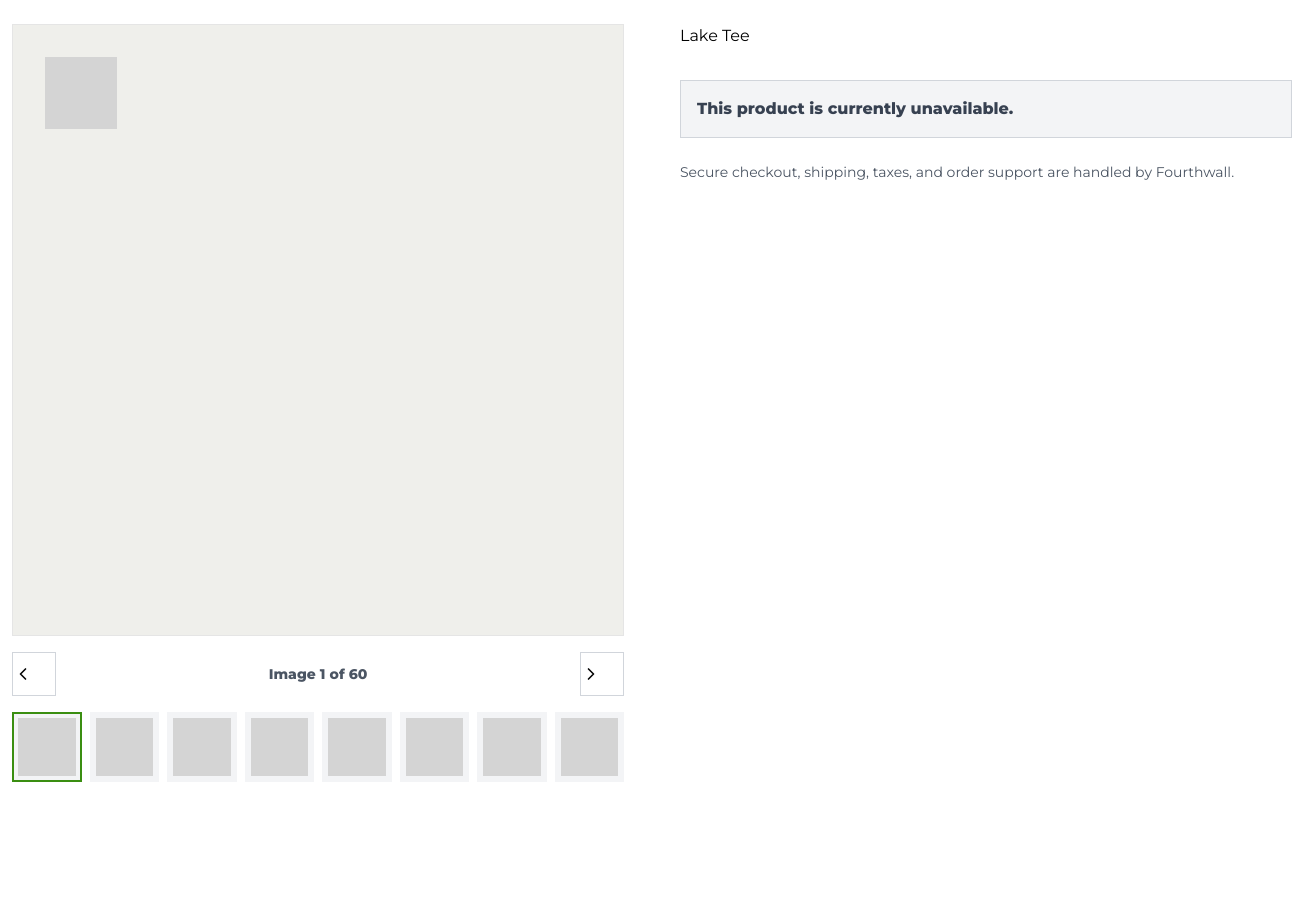
Scenario: Fourthwall product gallery and option selection › bounds thumbnail rendering for large catalogs while keeping every photo reachable
Click the button named "Previous product image" at (34, 674), box left=12, top=652, right=56, bottom=696
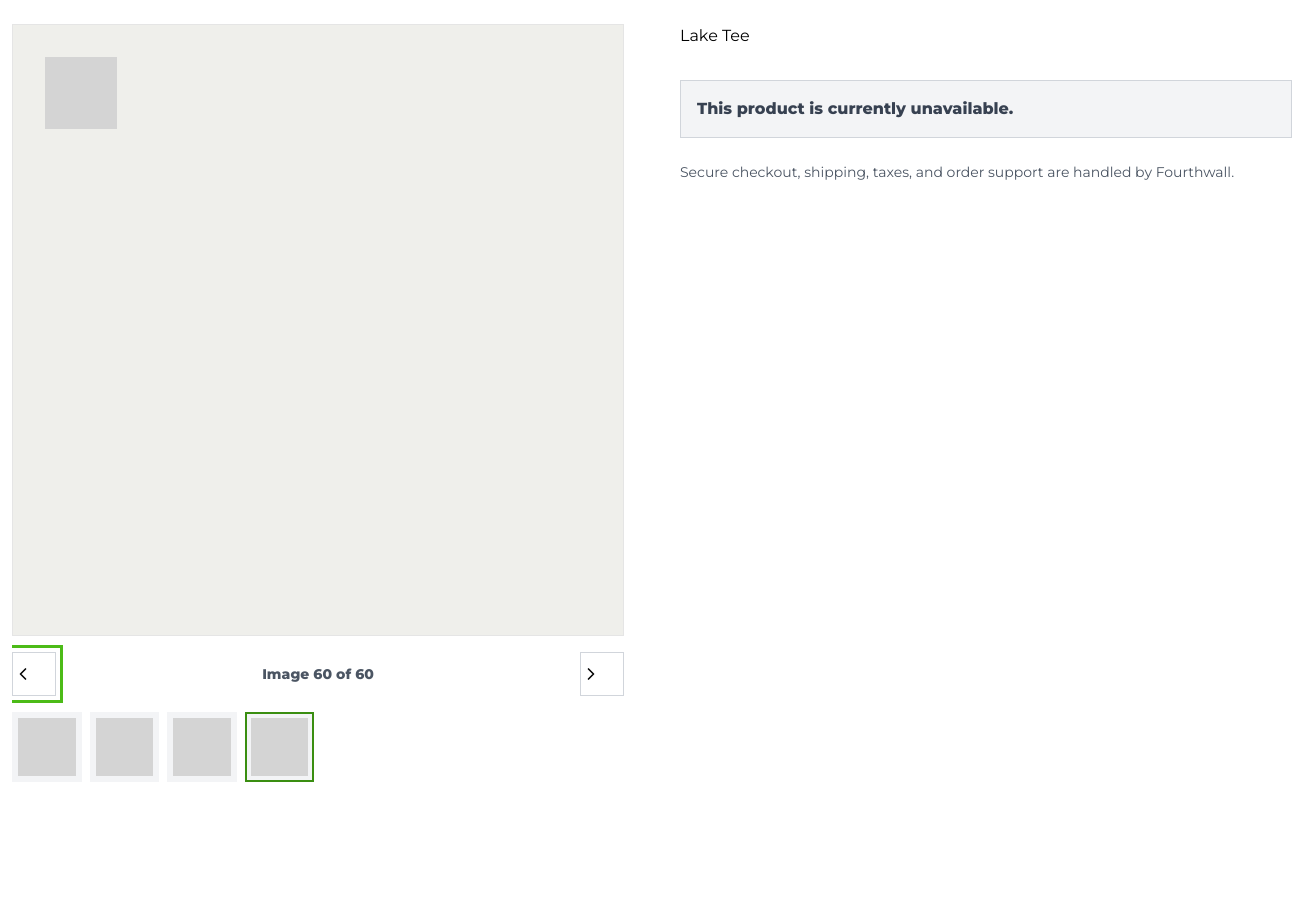
Check: the message named "Product image position" reads "Image 60 of 60", box left=262, top=664, right=374, bottom=684
Click the button named "Next product image" at (602, 674), box left=580, top=652, right=624, bottom=696
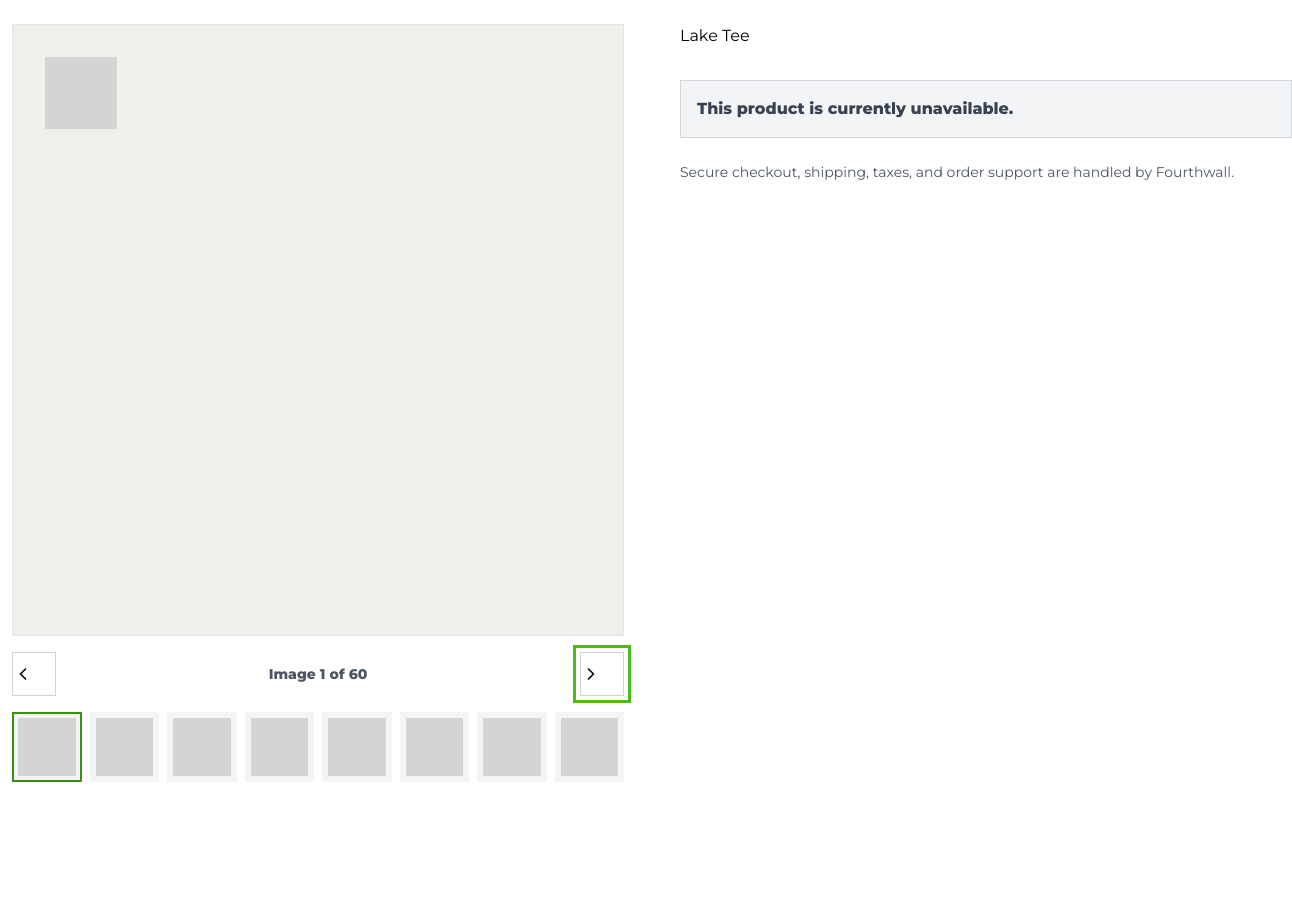
Check: the message named "Product image position" reads "Image 1 of 60", box left=269, top=664, right=367, bottom=684
